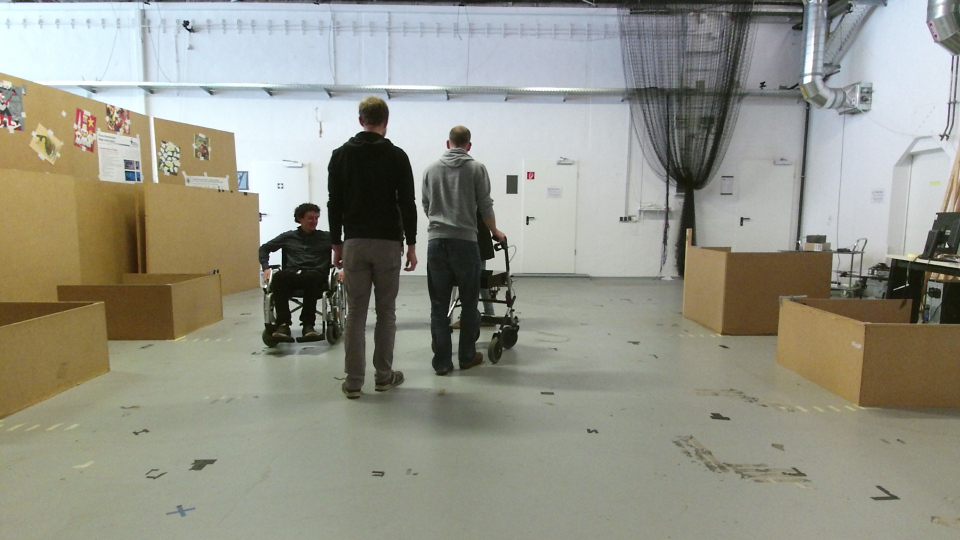wheelchair: (253, 197, 342, 349)
